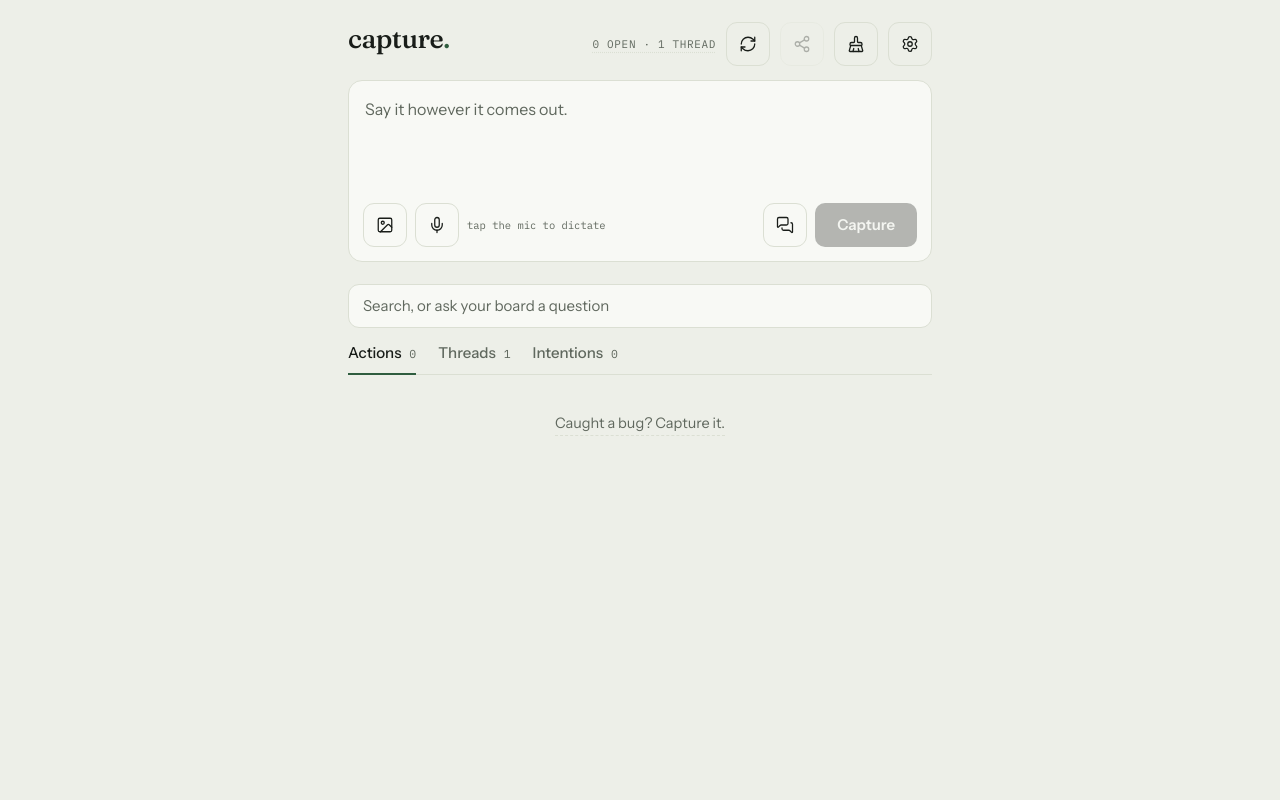
Test: opens the exact pending capture picker from its receipt without leaving an open Thread
Click the button "Threads 1" at [474, 358], box [438,342,511,374]
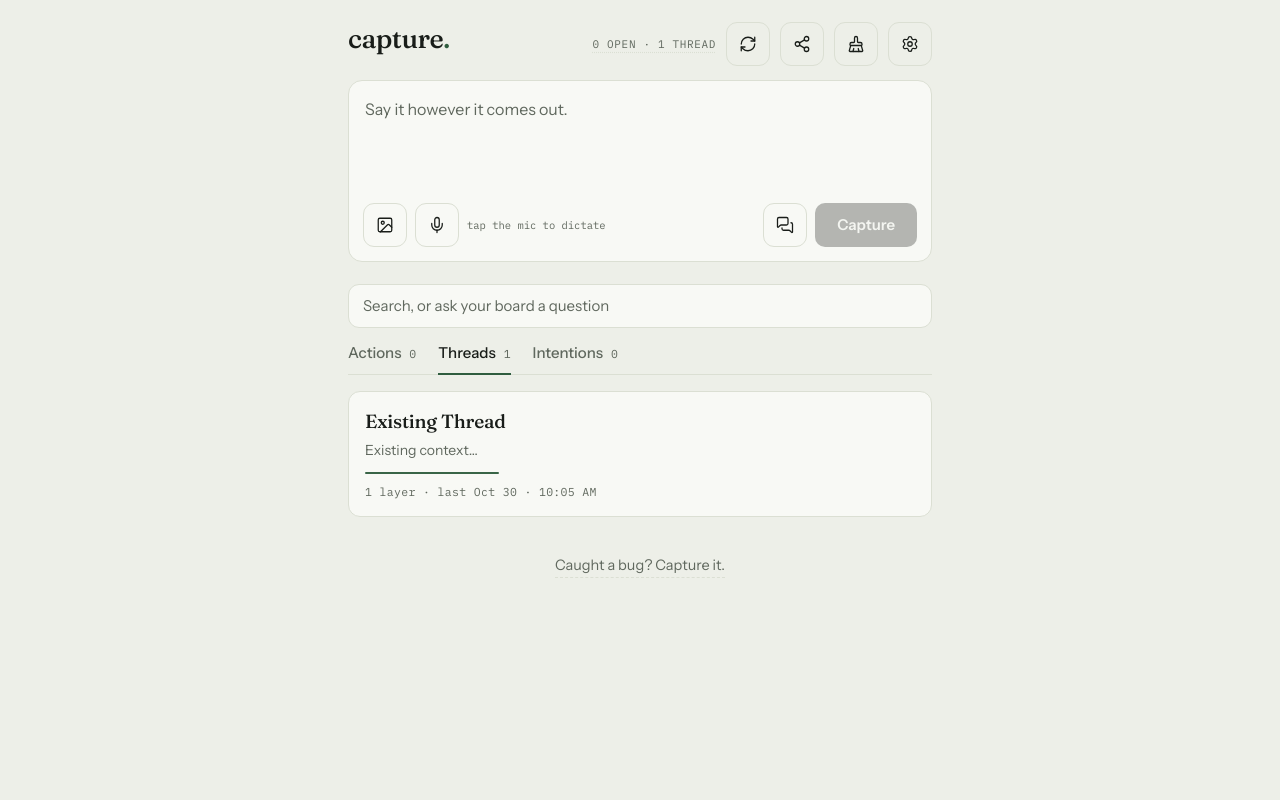
Click the text "Existing Thread" at [435, 420], box [365,408,506,432]
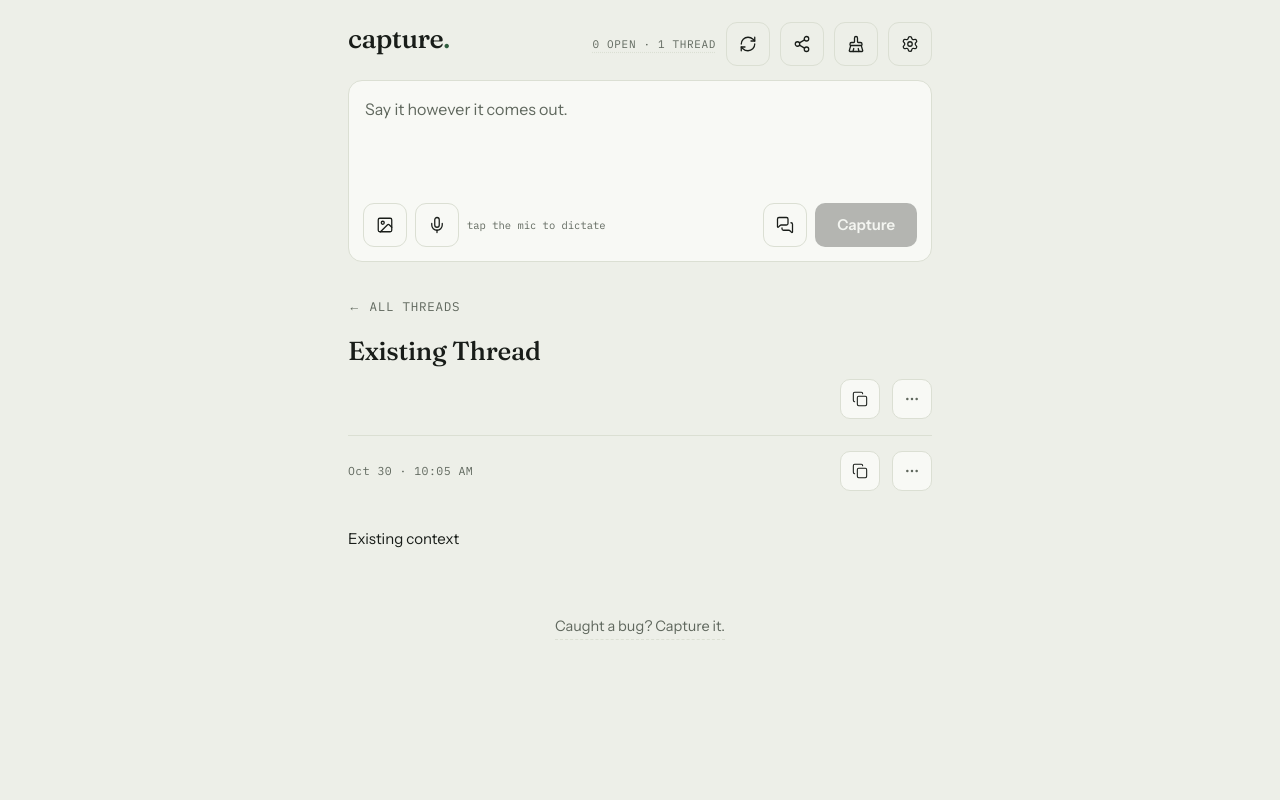
Now the text "Existing context" is shown, box [348,529,459,548]
Type "Place this while I remain in the Thread" into the text box with placeholder "Say it however it comes out." at [640, 141], box [363,95,917,187]
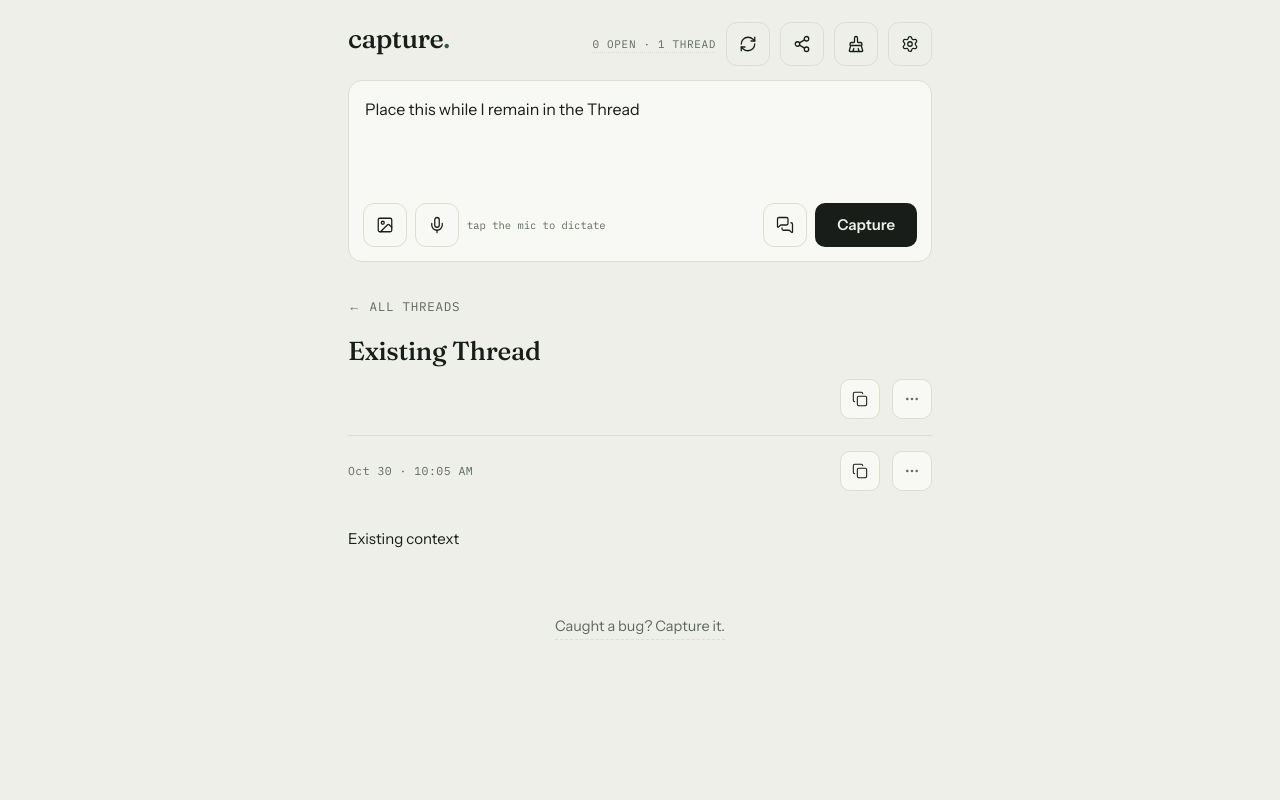
Click the button "Capture" at [866, 225], box [815,203,917,247]
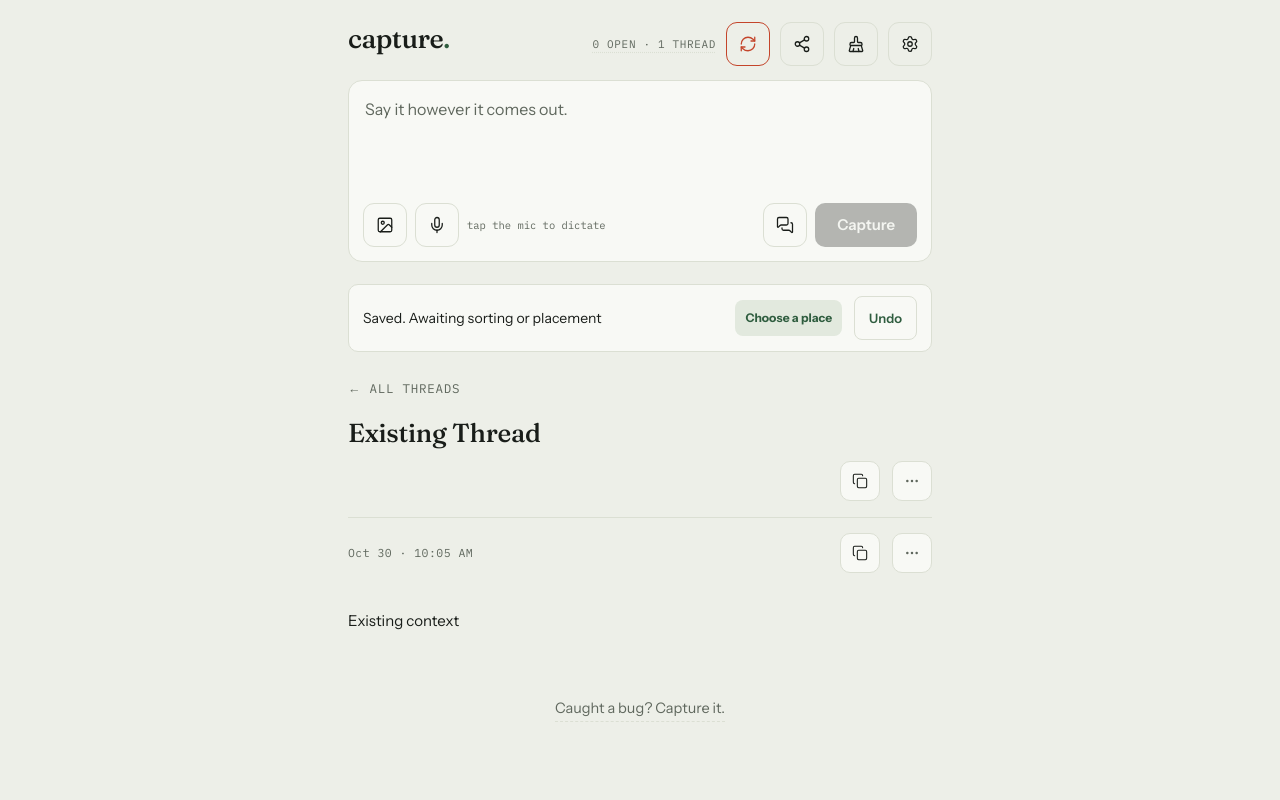
Now the text "Existing context" is shown, box [348,611,459,630]
Now the text "Saved. Awaiting sorting or placement" is shown, box [363,308,602,326]
Click the button "Choose a place" at [789, 318], box [735,300,842,336]
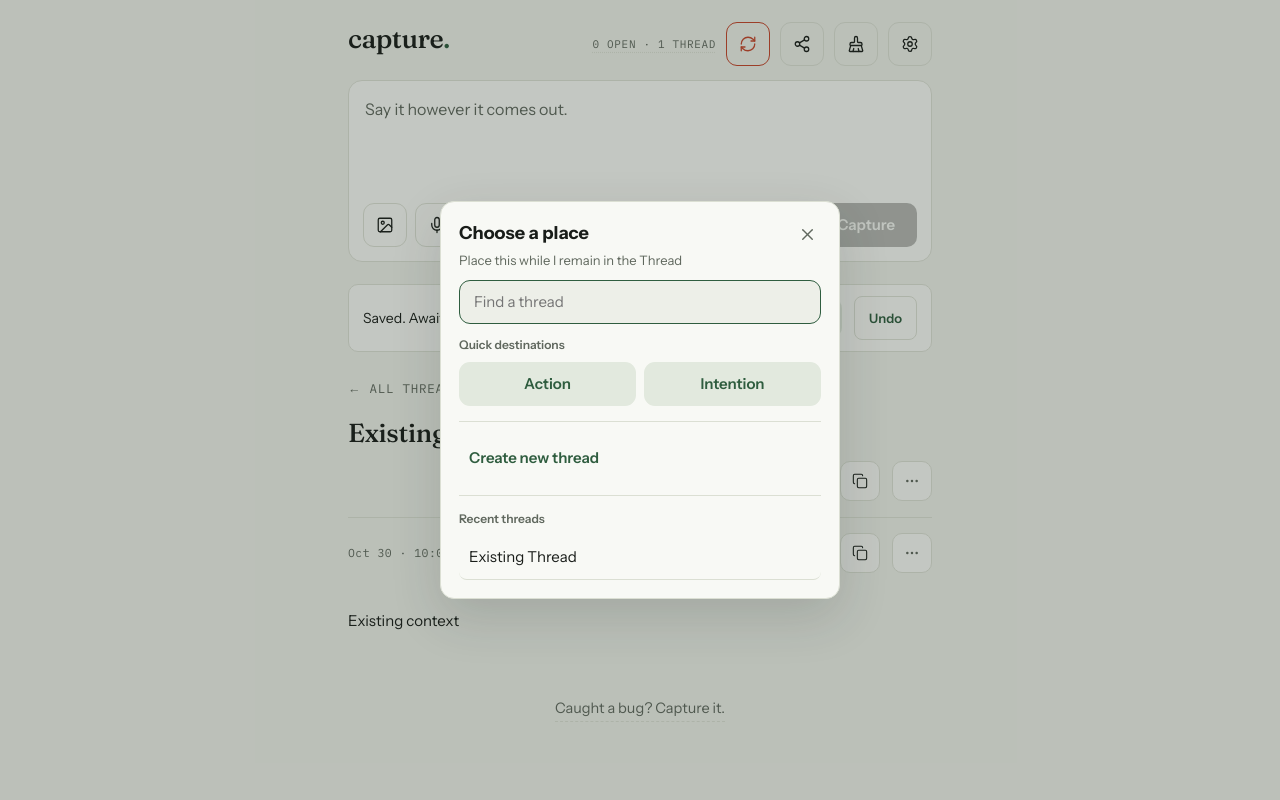
Now the text "Existing context" is shown, box [348,611,459,630]
Now the text "Place this while I remain in the Thread" is shown, box [459,252,682,270]
